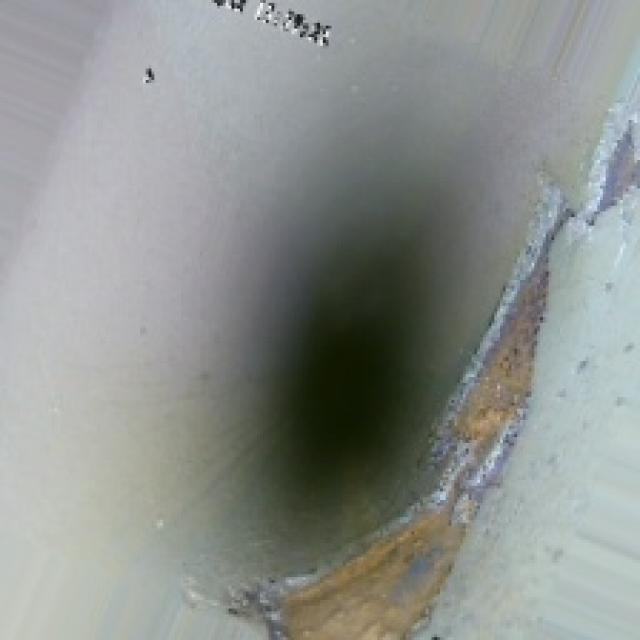pipe_surface_damage: (246, 234, 560, 637)
